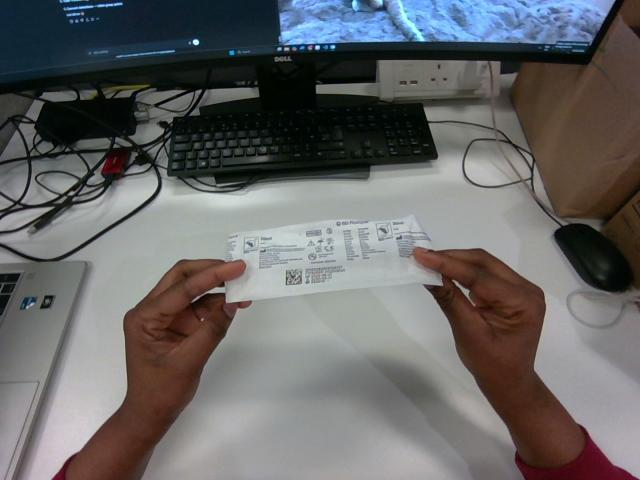syringe: (225, 215, 441, 301)
